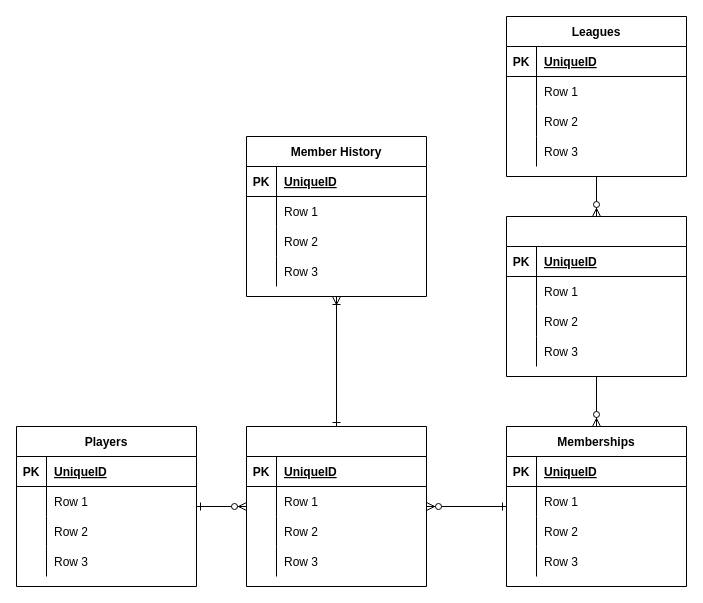
This 703x603 diagram has some shape labels left out. The box of each missing label's shape, as (x1, y1, x2, y2) in pixels:
Members: (246, 426, 426, 586)
Programs: (506, 216, 686, 376)
